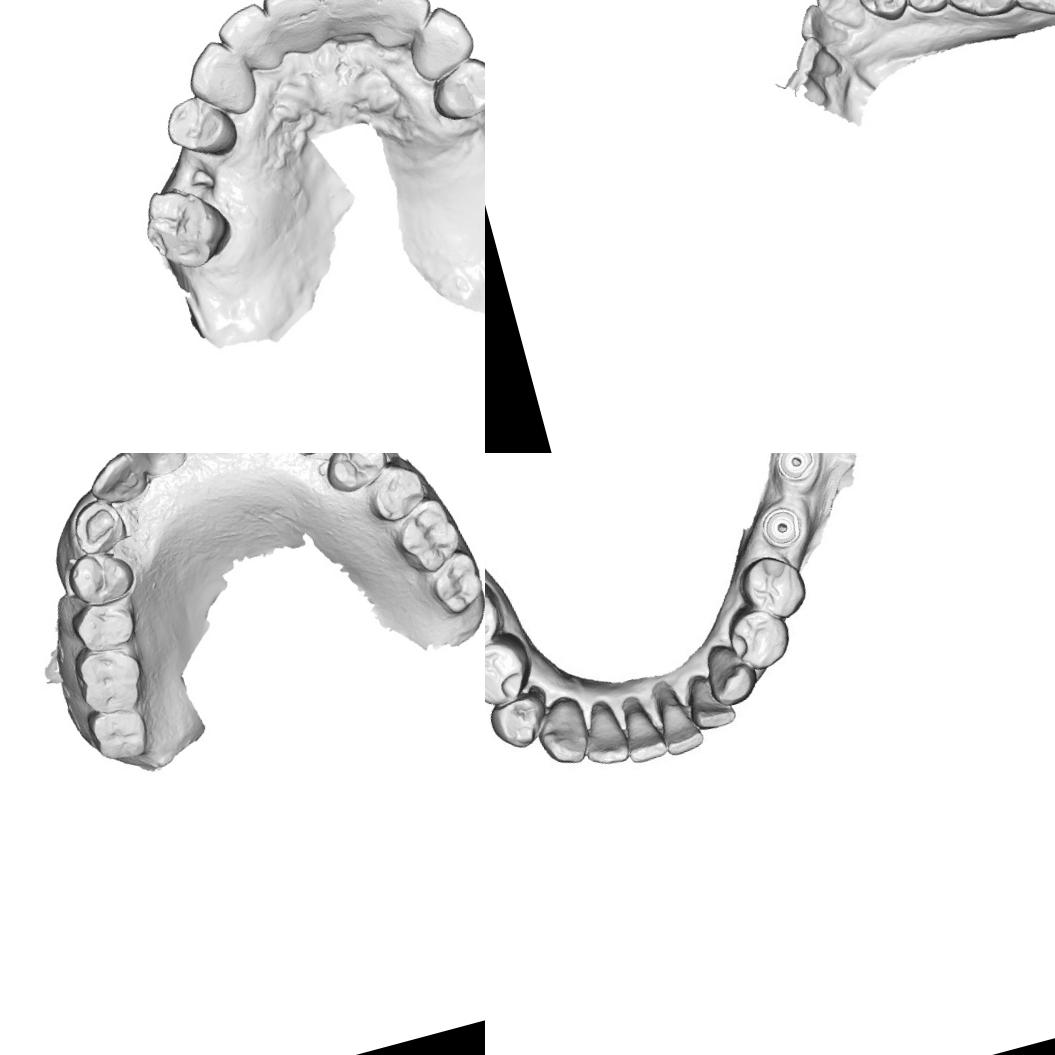canine: (178, 32, 262, 126), (398, 0, 480, 85), (530, 689, 598, 771), (698, 638, 762, 712), (65, 492, 130, 558), (811, 0, 868, 38)
implant: (753, 498, 814, 562), (771, 453, 827, 488)
incisor: (209, 0, 288, 82), (648, 675, 708, 760), (258, 0, 337, 63), (678, 664, 739, 738), (314, 0, 393, 56), (79, 453, 151, 511), (363, 0, 440, 54), (575, 699, 630, 772), (616, 693, 670, 766), (788, 30, 842, 84), (793, 0, 847, 51), (778, 63, 829, 114), (117, 453, 192, 484)
molar: (135, 173, 238, 278), (385, 492, 472, 581), (69, 639, 153, 720), (84, 704, 156, 770), (423, 546, 485, 620), (485, 560, 511, 668), (935, 0, 1024, 26)
premolar: (731, 546, 813, 628), (722, 600, 799, 676), (60, 542, 140, 611), (162, 90, 234, 160), (485, 685, 555, 756), (364, 460, 434, 528), (69, 593, 142, 658), (425, 50, 485, 125), (485, 634, 535, 715), (315, 453, 393, 499), (851, 0, 912, 28), (897, 0, 954, 18)
